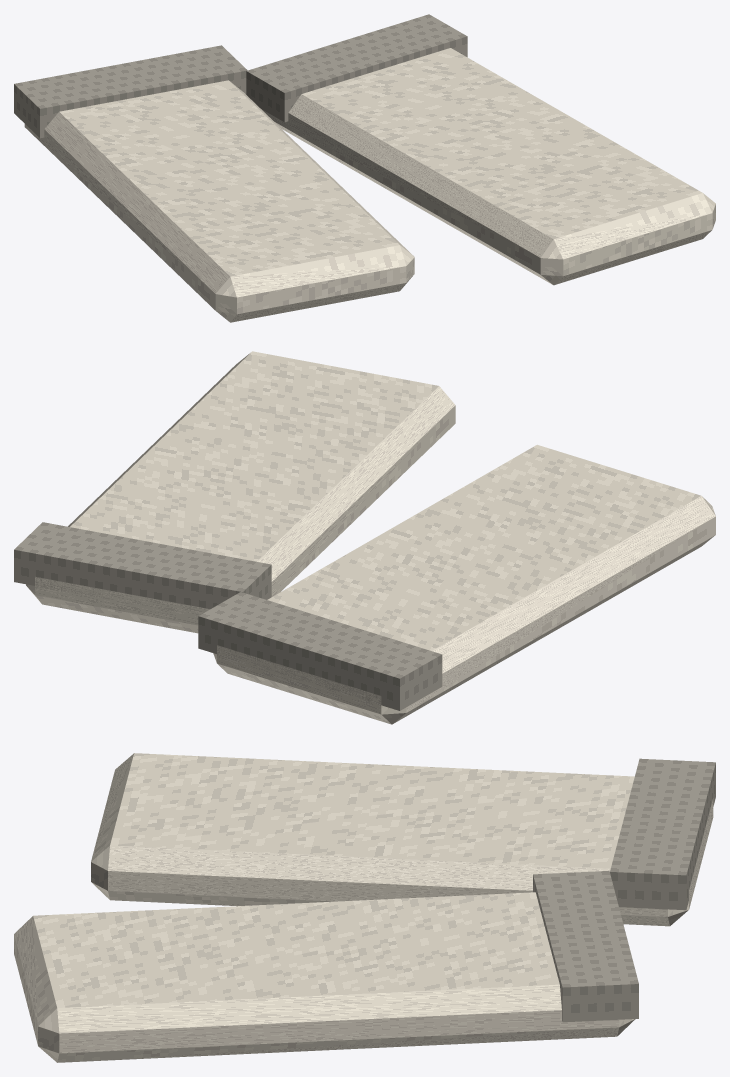
The model's file is long_glove_white.glb.
3 views of the same model, one above another, from view 1: azimuth 30°, elevation 25°; view 2: azimuth 150°, elevation 25°; view 3: azimuth 270°, elevation 25° (orthographic). The views are drawn at different scales.
Visible parts, largest first — view 1: block_knitted leg (×2), block_binding (×2); view 2: block_knitted leg (×2), block_binding (×2); view 3: block_knitted leg (×2), block_binding (×2).
Part boxes in pixels (box(x1,y1,x2,y2)): block_knitted leg (×2): box(24, 48, 715, 322); block_binding (×2): box(14, 14, 467, 138); block_knitted leg (×2): box(26, 351, 715, 724); block_binding (×2): box(14, 522, 442, 710); block_knitted leg (×2): box(14, 753, 713, 1062); block_binding (×2): box(533, 758, 715, 1022).
Bounding box in the file's own units: 0.2334 × 0.025 × 0.2554.
Materials: 1 (1 with a texture image).
